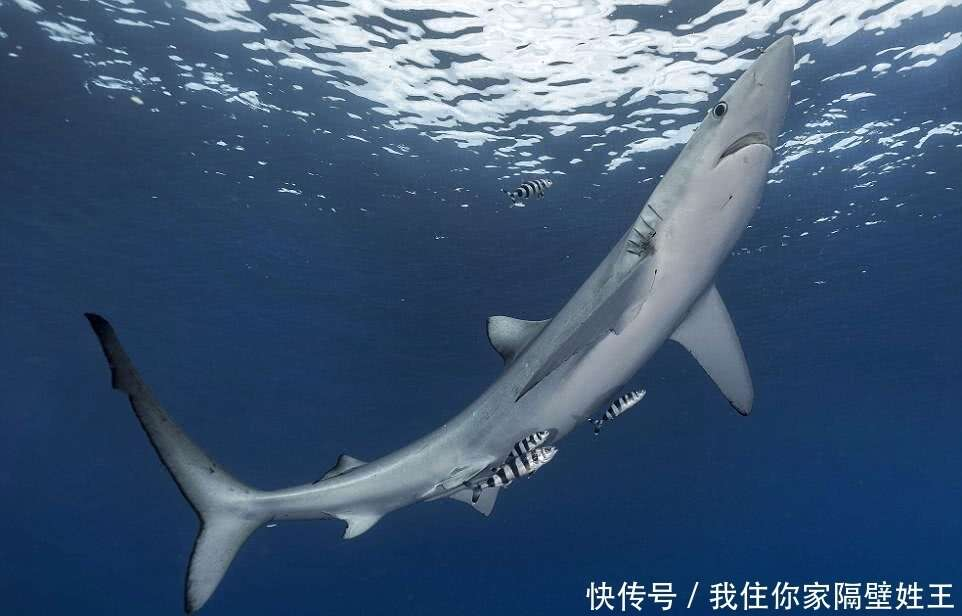shark: (74, 19, 820, 616)
